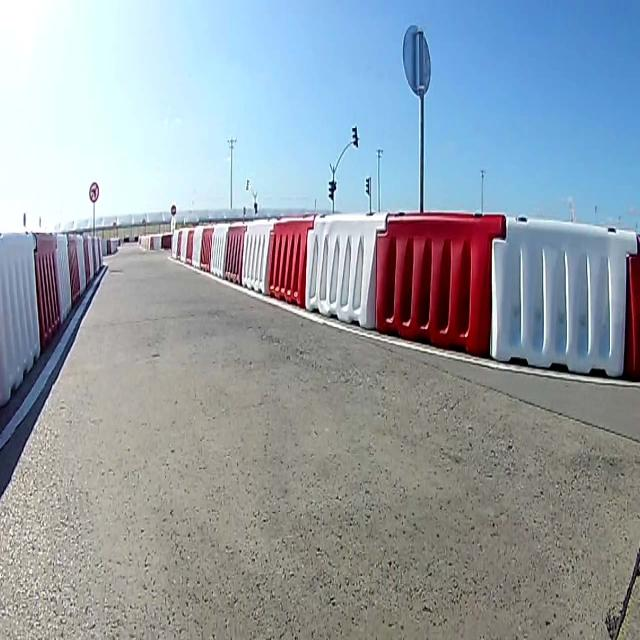soladonulmez: (88, 181, 98, 202)
